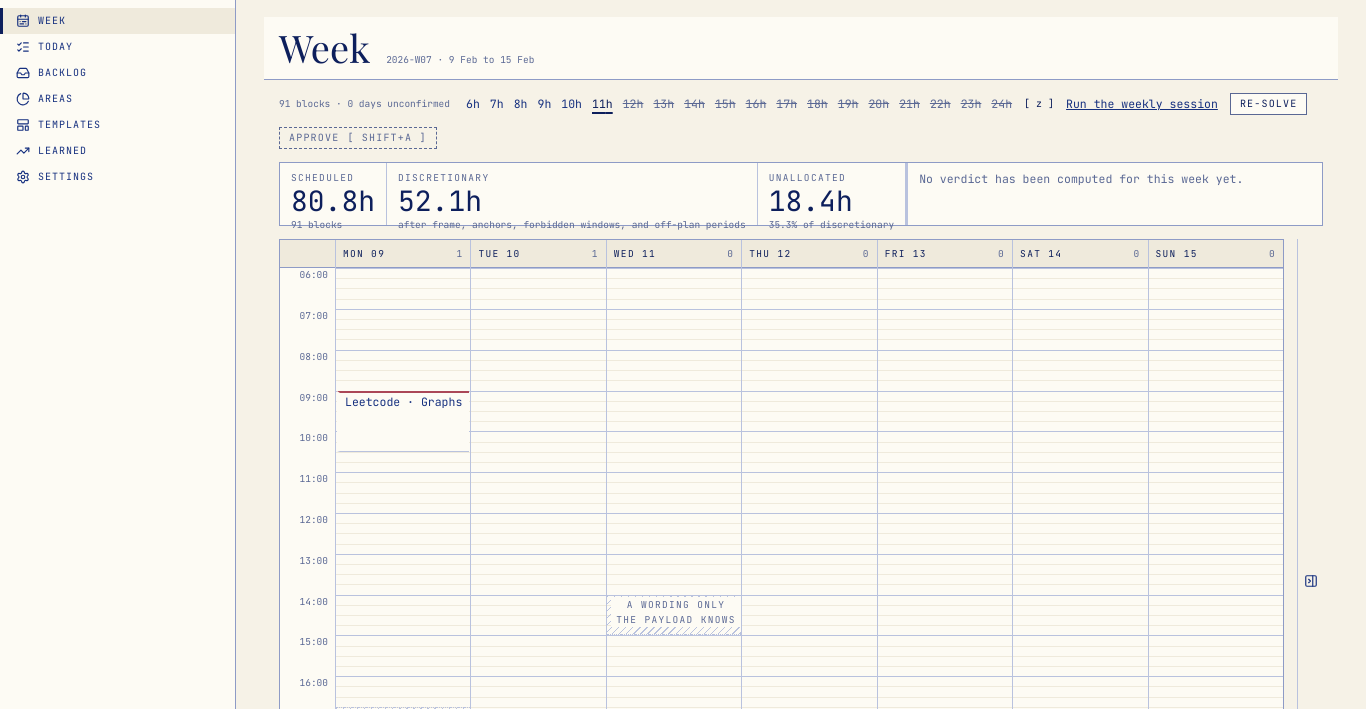
the detail panel › closes from the panel's own control, keeps the selection, and reopens with Enter
Type keys "j"
(page scrolled)
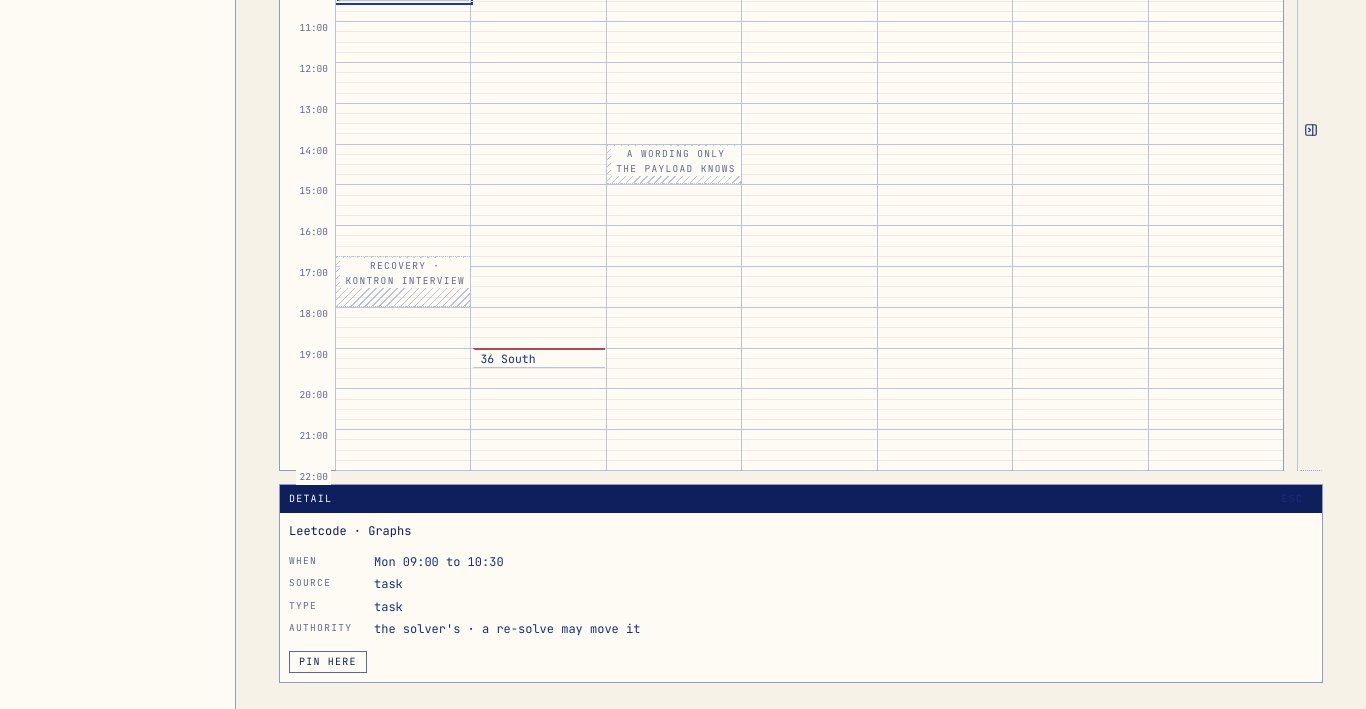
Click the button with aria-label "Close the detail panel" at (1292, 499), box [1271,488,1313,510]
(page scrolled)
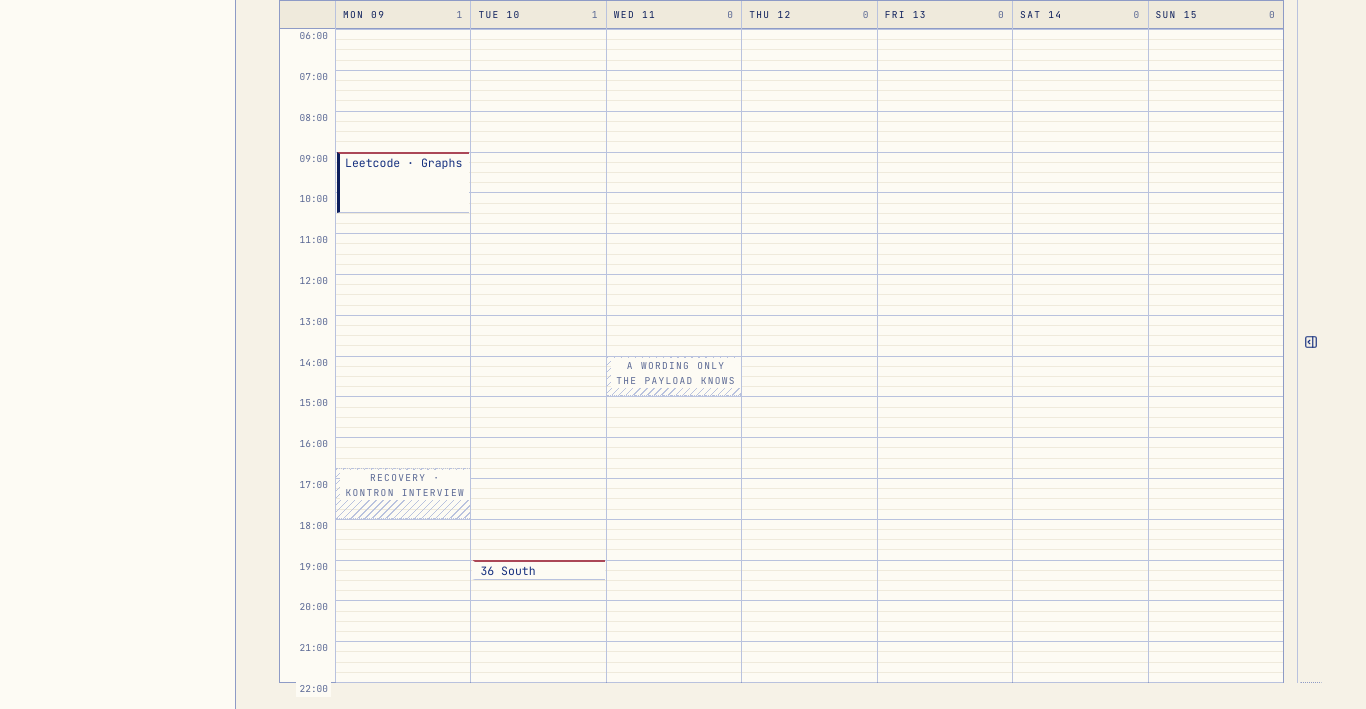
Now the heading labelled "Detail" is gone
Press Enter
(page scrolled)
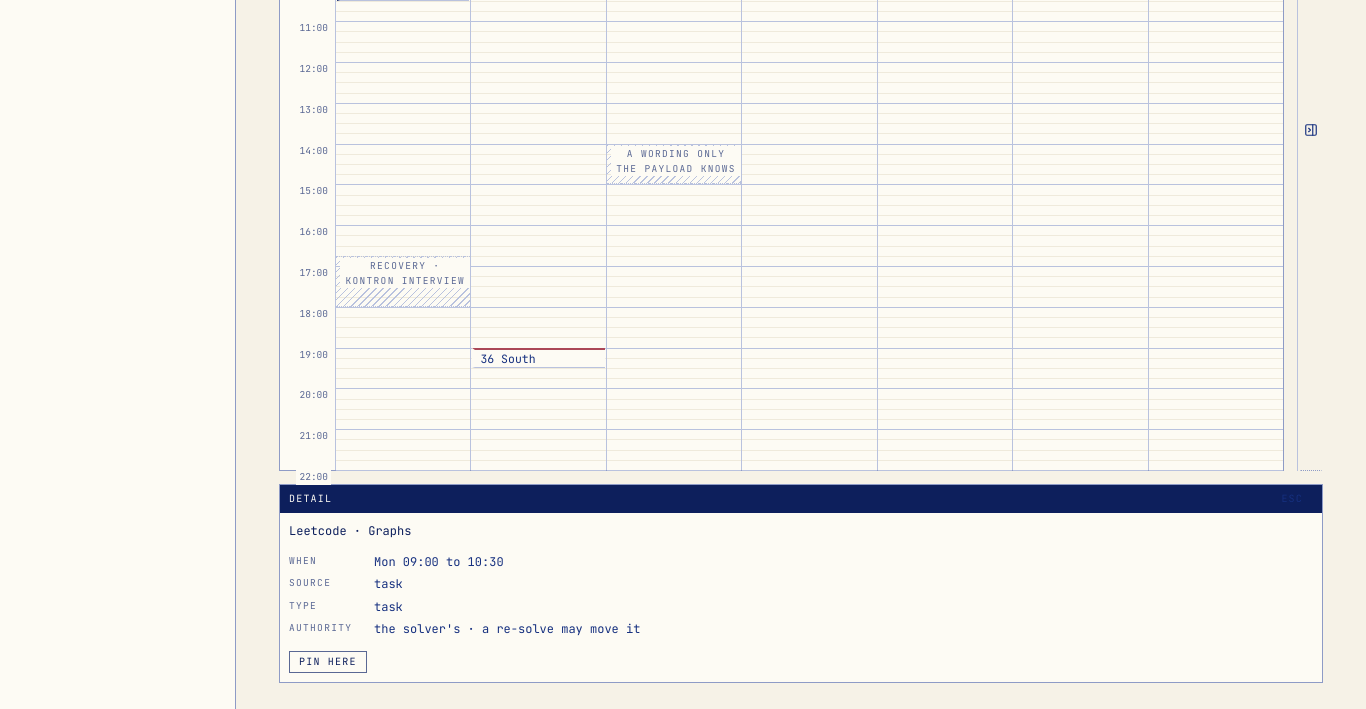
Now the element labelled "Detail" is shown, box [279,484,1323,683]
